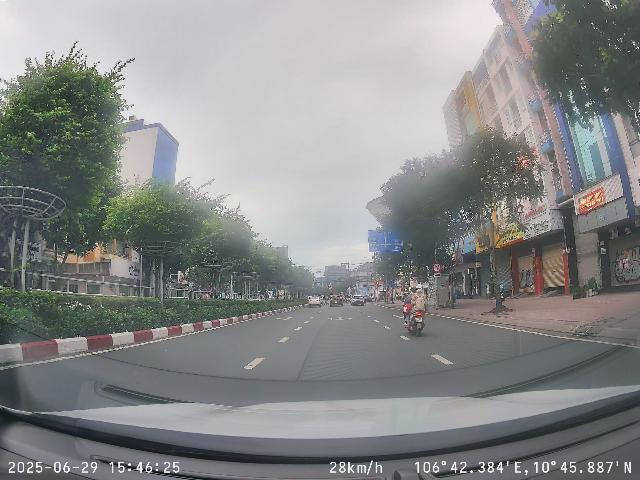137-cam-re-trai-va-re-phai: (432, 262, 442, 273)
